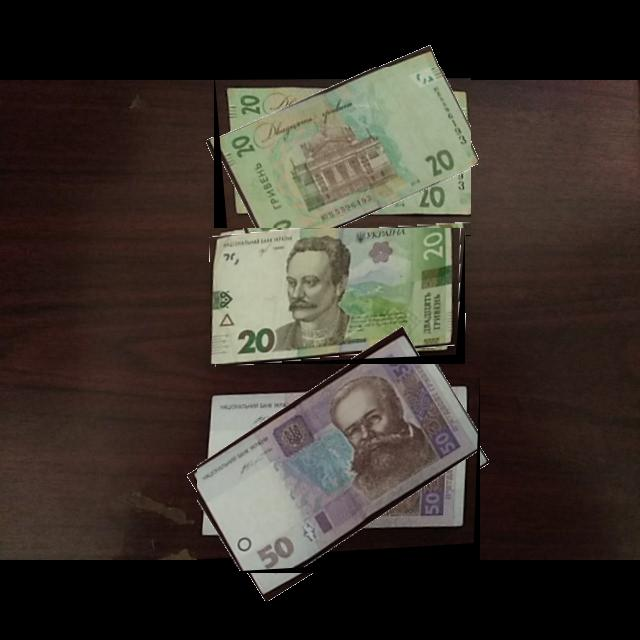20uah: (214, 67, 472, 237), (210, 228, 466, 366)
50uah: (197, 364, 481, 574)
